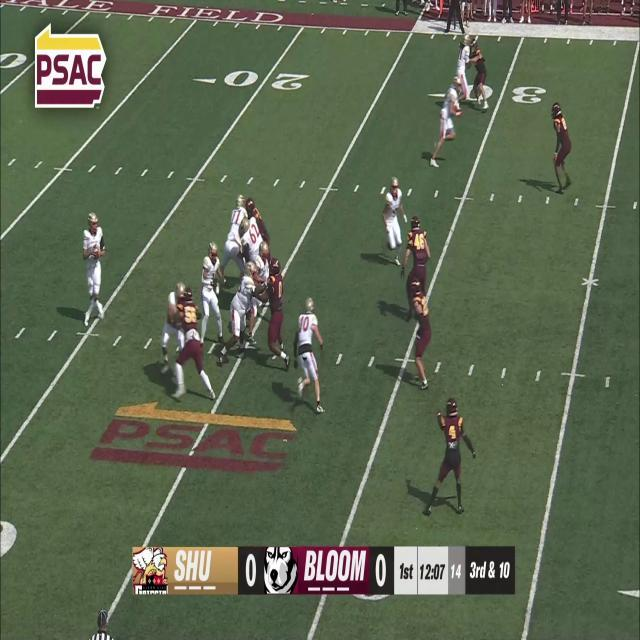football: (92, 246, 99, 260)
